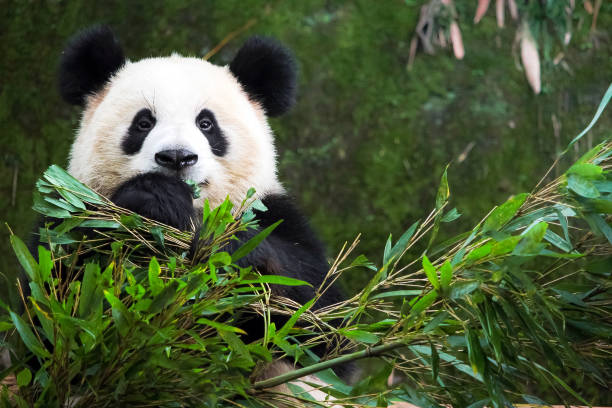panda: (46, 11, 403, 307)
